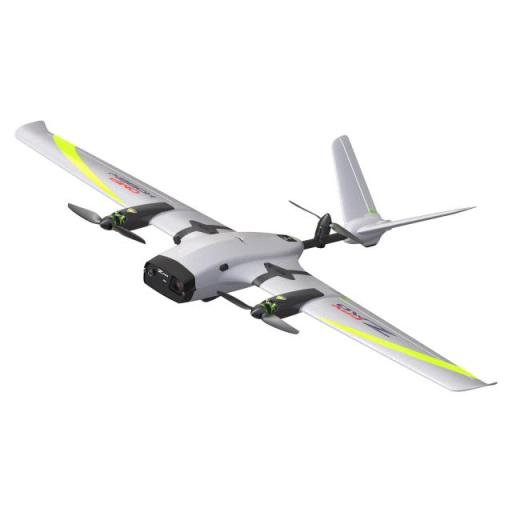uav: (13, 103, 499, 408)
